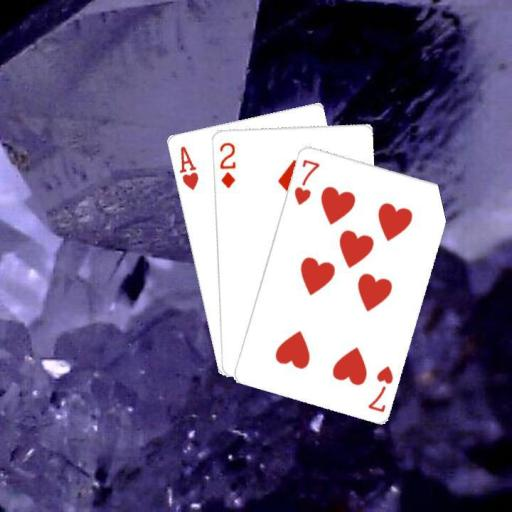2D: (215, 139, 237, 189)
7H: (364, 362, 395, 414), (290, 156, 322, 206)
AH: (176, 143, 200, 191)
